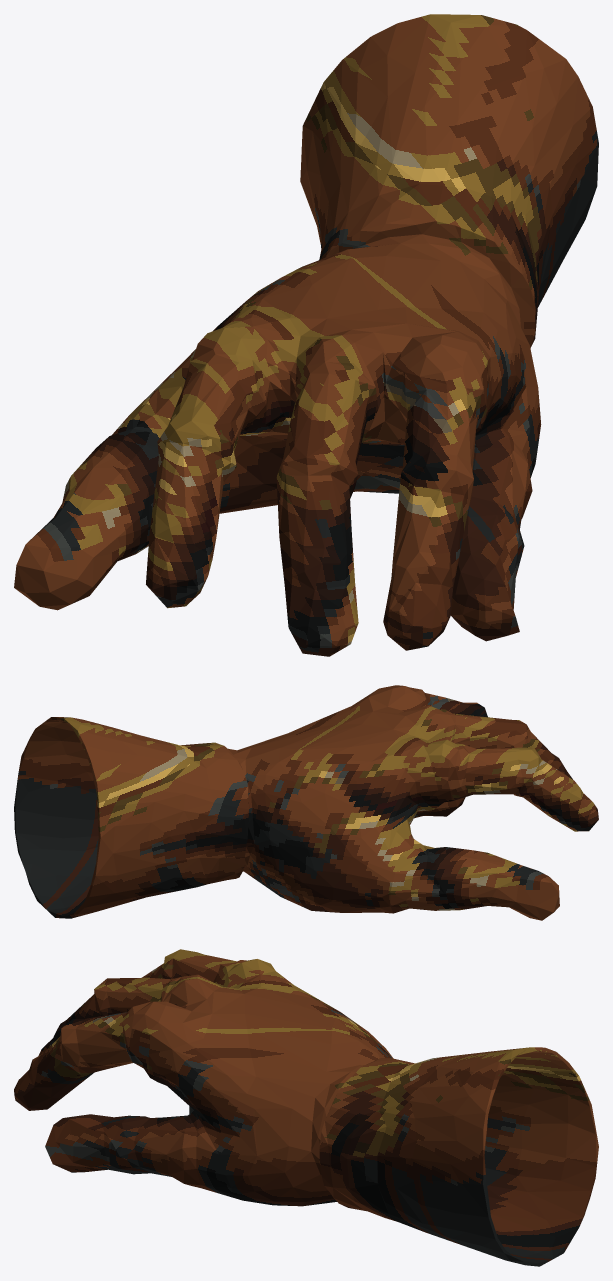
The model's file is hand.glb.
3 renders of one model, top to bottom at view 1: azimuth 30°, elevation 25°; view 2: azimuth 150°, elevation 25°; view 3: azimuth 270°, elevation 25°, orthographic. The views are drawn at different scales.
Parts seen in each view (by area): view 1: hand; view 2: hand; view 3: hand.
Part boxes in pixels (x1,y1,x2,y2): hand: (14,14,598,656); hand: (14,685,598,920); hand: (14,949,598,1266).
Bounding box in the file's own units: 0.7286 × 0.3 × 0.7285.
1 material, 1 textured.
